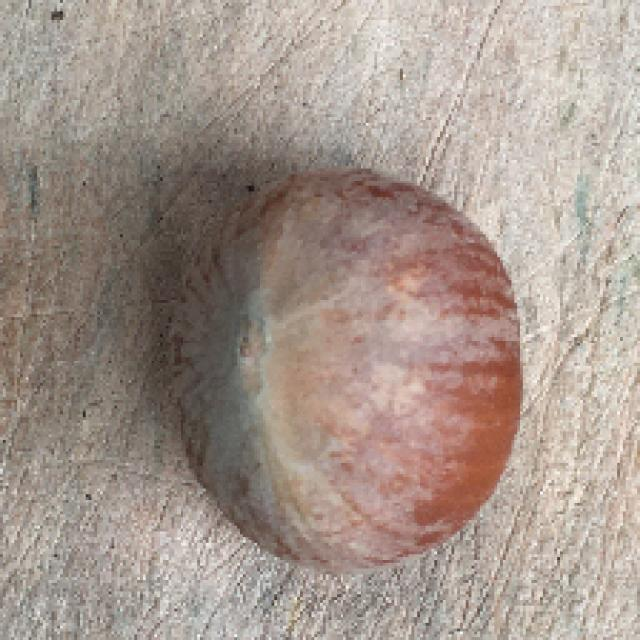qualityHazelnut: (162, 164, 530, 578)
